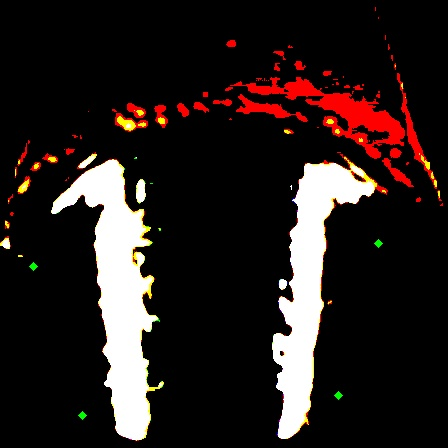coin_1: (33, 266, 53, 286)
coin_2: (82, 415, 102, 435)
coin_3: (378, 243, 398, 263)
coin_4: (338, 395, 358, 415)
